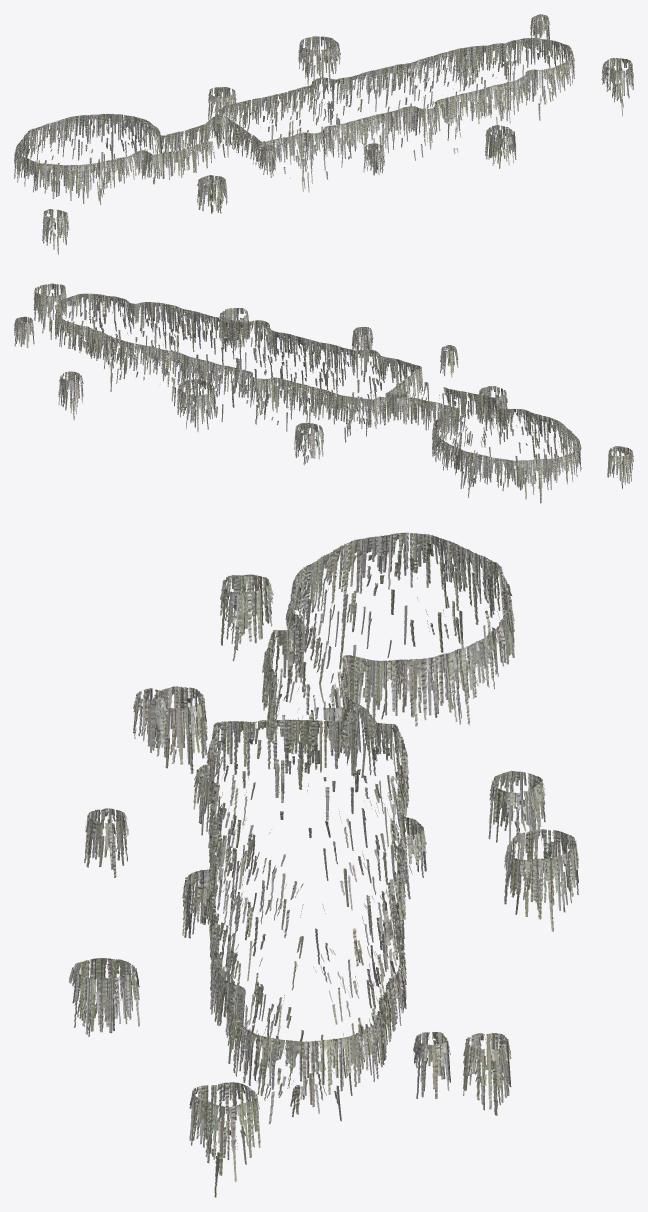
Rendered from SM_H01_Vines.fbx.
The picture shows the model from 3 angles, top to bottom: view 1: azimuth 30°, elevation 25°; view 2: azimuth 150°, elevation 25°; view 3: azimuth 270°, elevation 25°; orthographic projection. The views are drawn at different scales.
Parts seen in each view (by area): view 1: SM_H01_Vines; view 2: SM_H01_Vines; view 3: SM_H01_Vines.
Part boxes in pixels (x1,y1,x2,y2): SM_H01_Vines: (14,14,633,254); SM_H01_Vines: (14,283,633,503); SM_H01_Vines: (69,532,578,1197).
Bounding box in the file's own units: 648 × 94.19 × 245.
